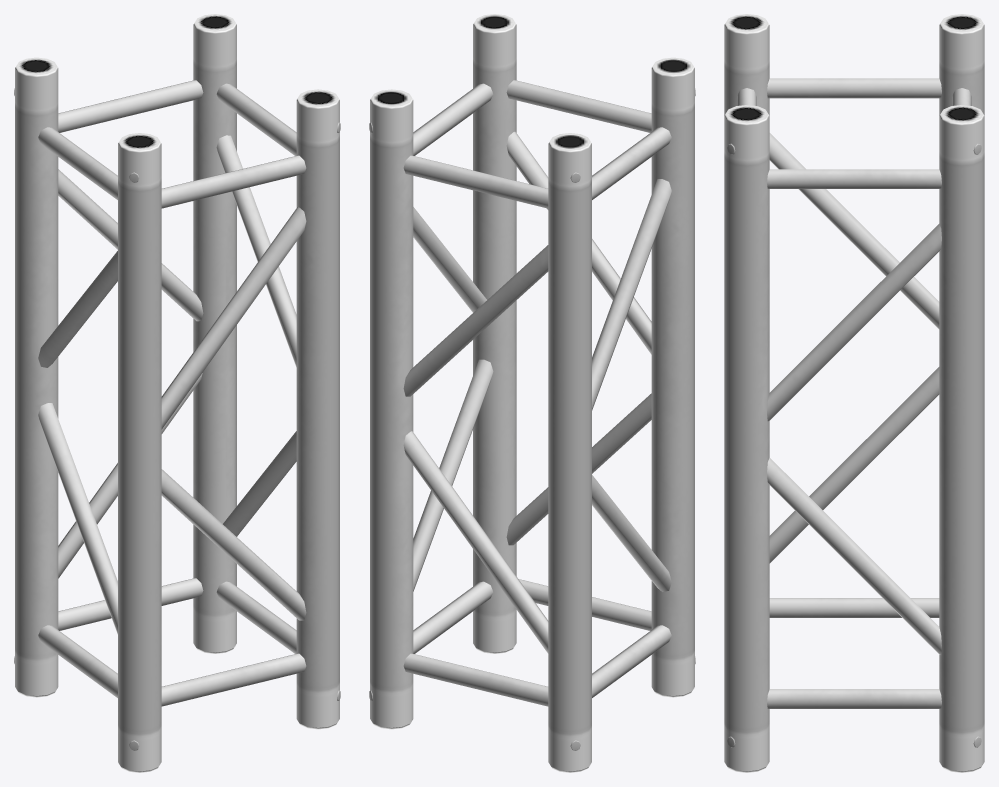
Rendered from SM_Truss_100_Straight.fbx.
3 views of the same model, side by side, from view 1: azimuth 30°, elevation 25°; view 2: azimuth 150°, elevation 25°; view 3: azimuth 270°, elevation 25° (orthographic). The views are drawn at different scales.
Parts seen in each view (by area): view 1: SM_Truss_100_Straight_LOD0; view 2: SM_Truss_100_Straight_LOD0; view 3: SM_Truss_100_Straight_LOD0.
Part boxes in pixels (<box>): SM_Truss_100_Straight_LOD0: <box>14,14,340,772</box>; SM_Truss_100_Straight_LOD0: <box>369,14,695,772</box>; SM_Truss_100_Straight_LOD0: <box>724,14,984,772</box>.
Size of the model in its own units: 36.32 by 36.32 by 100.
Materials: 1 (1 with a texture image).
